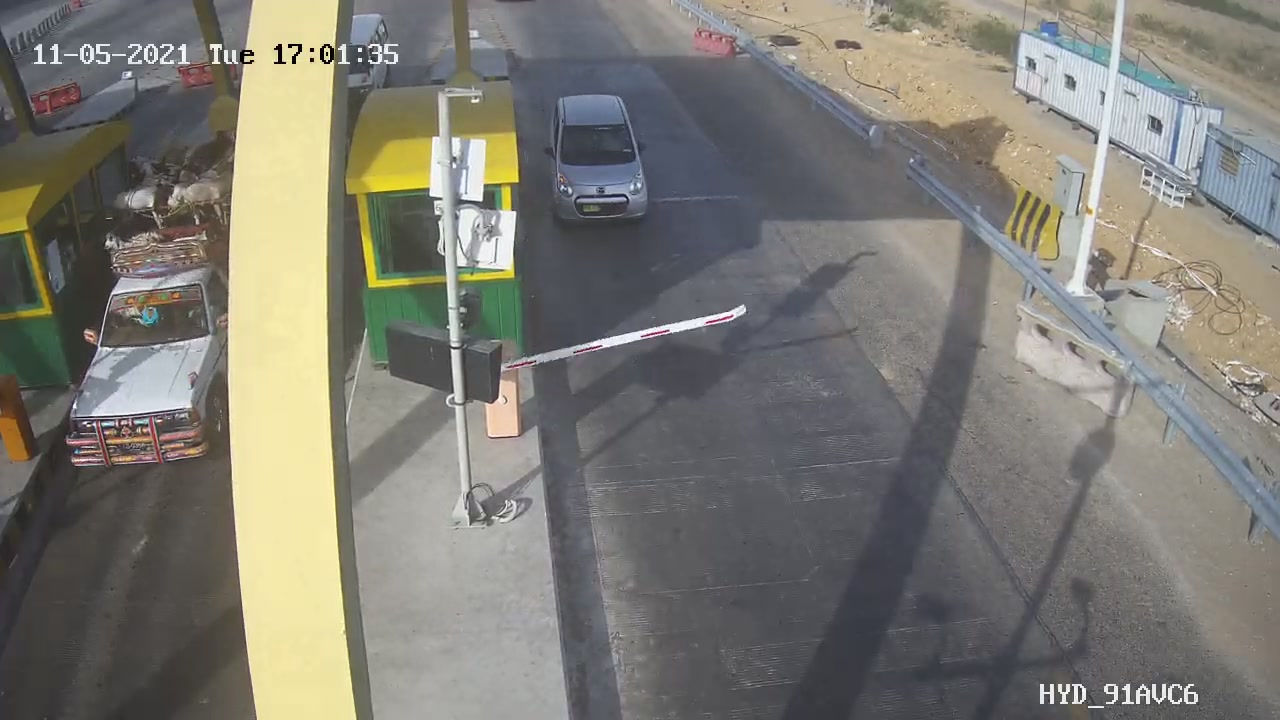F1: (533, 81, 673, 239)
